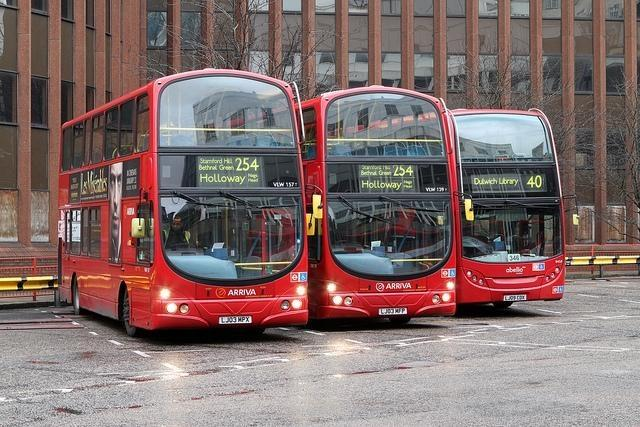bus: (57, 68, 324, 340), (304, 89, 458, 324), (451, 110, 563, 302)
